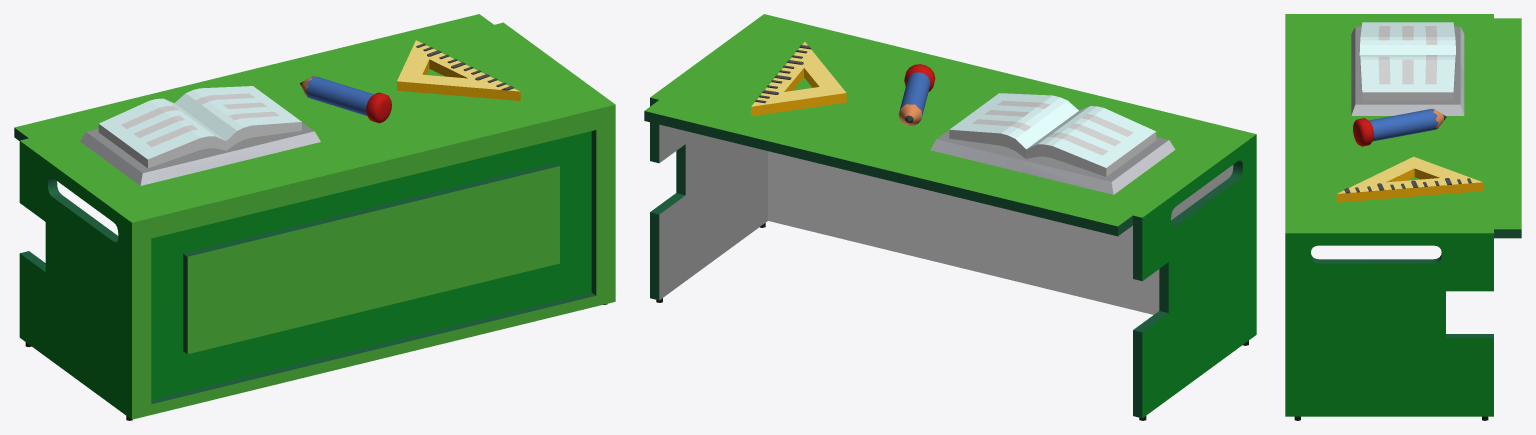
The model's file is Techer Table LEVEL-2-3.fbx.
The picture shows the model from 3 angles, left to right: view 1: azimuth 30°, elevation 25°; view 2: azimuth 150°, elevation 25°; view 3: azimuth 270°, elevation 25°; orthographic projection. The views are drawn at different scales.
Visible parts, largest first — view 1: Techer Table LEVEL-2-3; view 2: Techer Table LEVEL-2-3; view 3: Techer Table LEVEL-2-3.
Part boxes in pixels (box(x1,y1,x2,y2)): Techer Table LEVEL-2-3: box(14, 14, 615, 420); Techer Table LEVEL-2-3: box(644, 14, 1256, 420); Techer Table LEVEL-2-3: box(1285, 14, 1521, 420).
Bounding box in the file's own units: 13.99 × 6.39 × 6.36.
